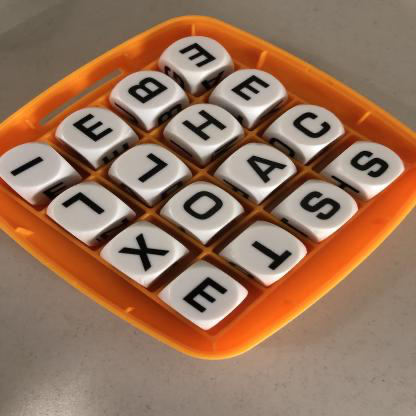a: (231, 146, 292, 191)
b: (118, 73, 176, 109)
c: (279, 105, 342, 146)
e: (168, 270, 238, 323), (63, 108, 125, 151), (167, 36, 226, 72), (226, 70, 279, 110)
h: (178, 106, 235, 145)
i: (3, 145, 61, 189)
l: (52, 187, 119, 234), (118, 146, 181, 190)
o: (170, 187, 236, 232)
s: (286, 183, 353, 231), (340, 143, 406, 187)
t: (233, 227, 301, 276)
x: (109, 227, 173, 275)
